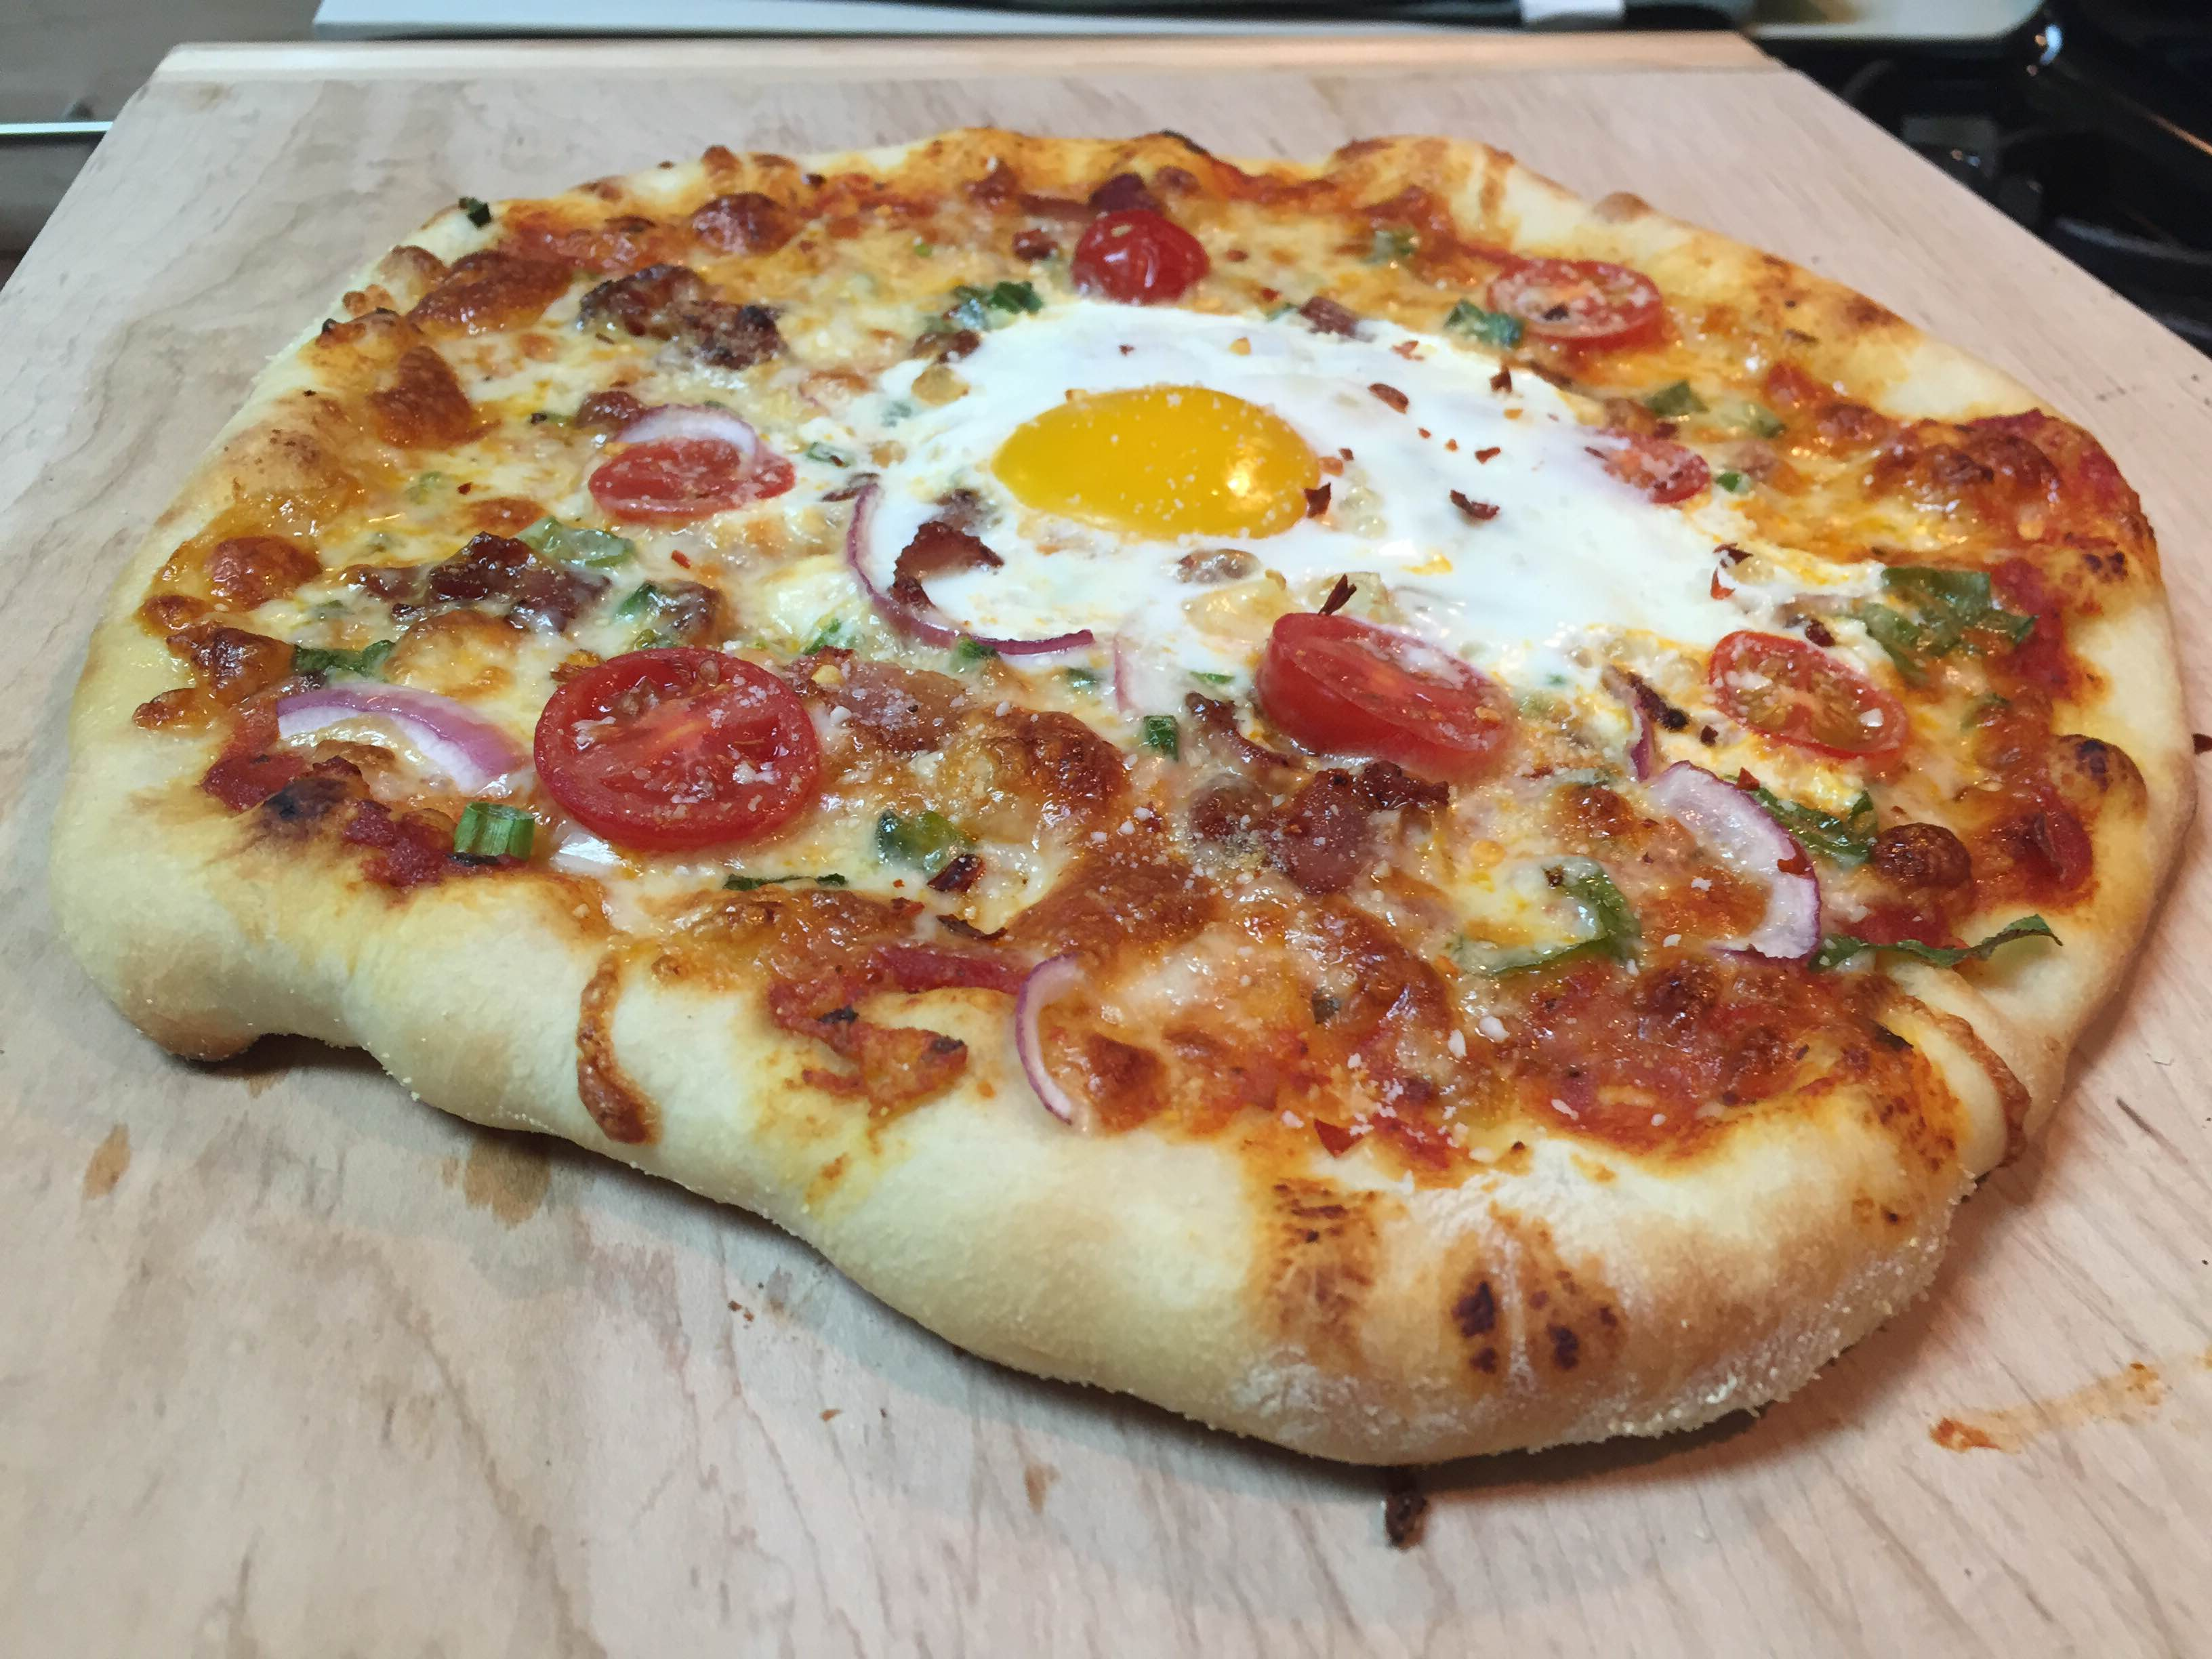fried egg: (890, 298, 1630, 683)
slice of bread: (125, 908, 2160, 1521)
